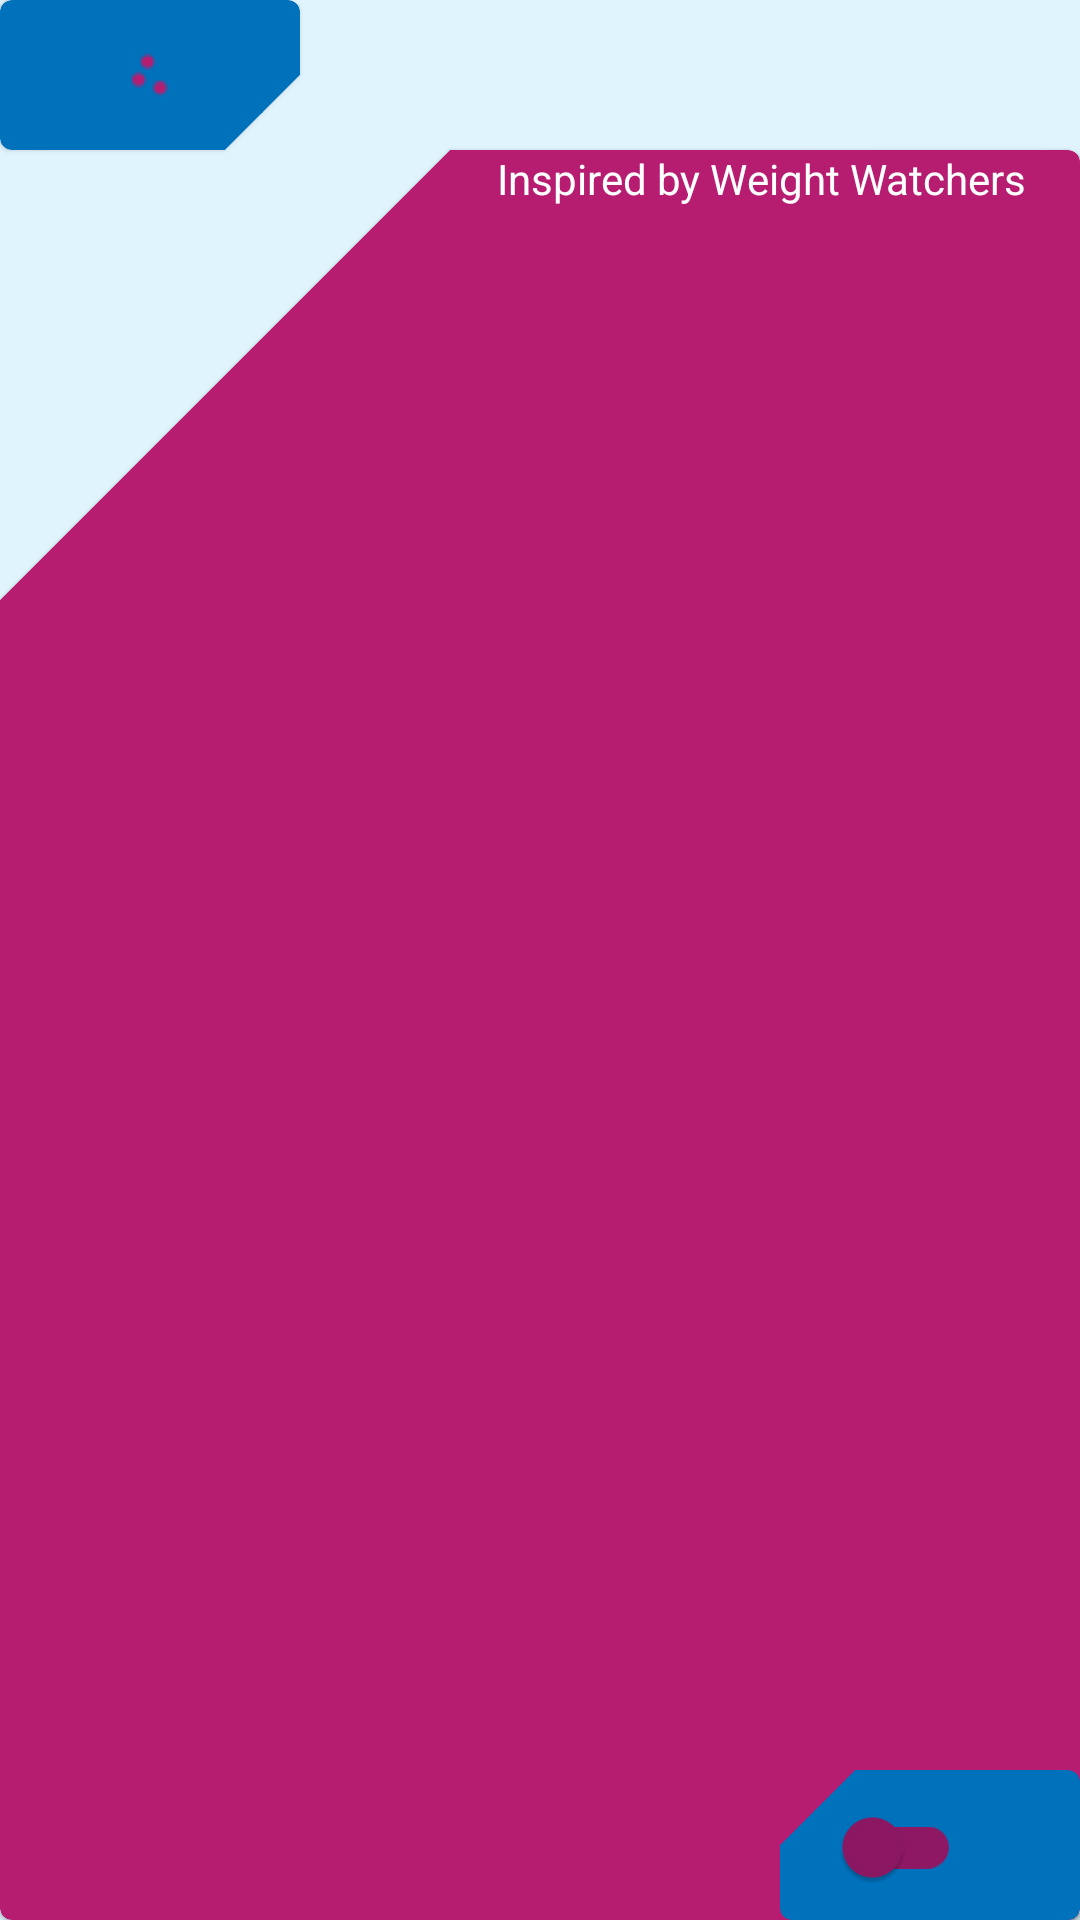

Icons on this 1080*1920 Android screen, each with the point to tap as (x,y):
scatter image for fun: (150,74)
